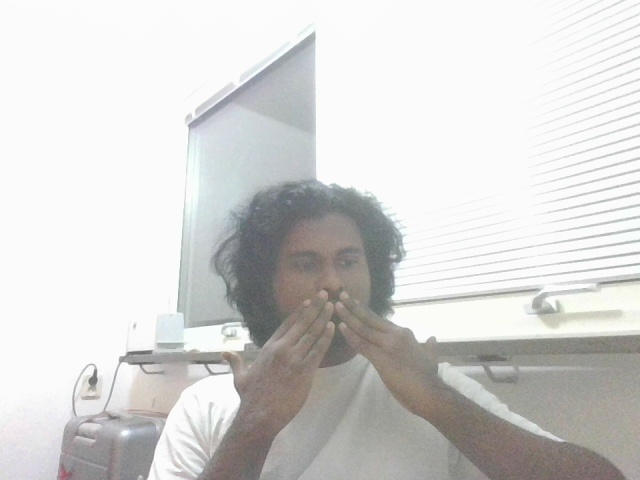Thanks: (209, 279, 472, 408)
